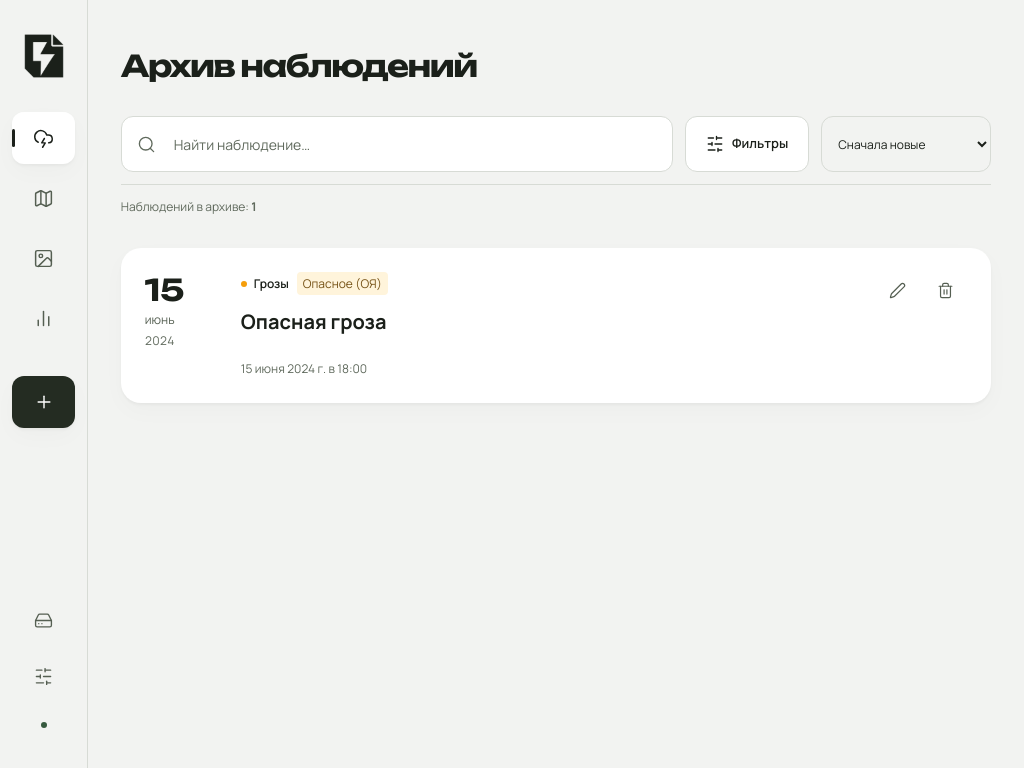
Test: tabs › renders statistics for the stored observations
Click the button named "Статистика": point(44, 318) [12,292,75,344]
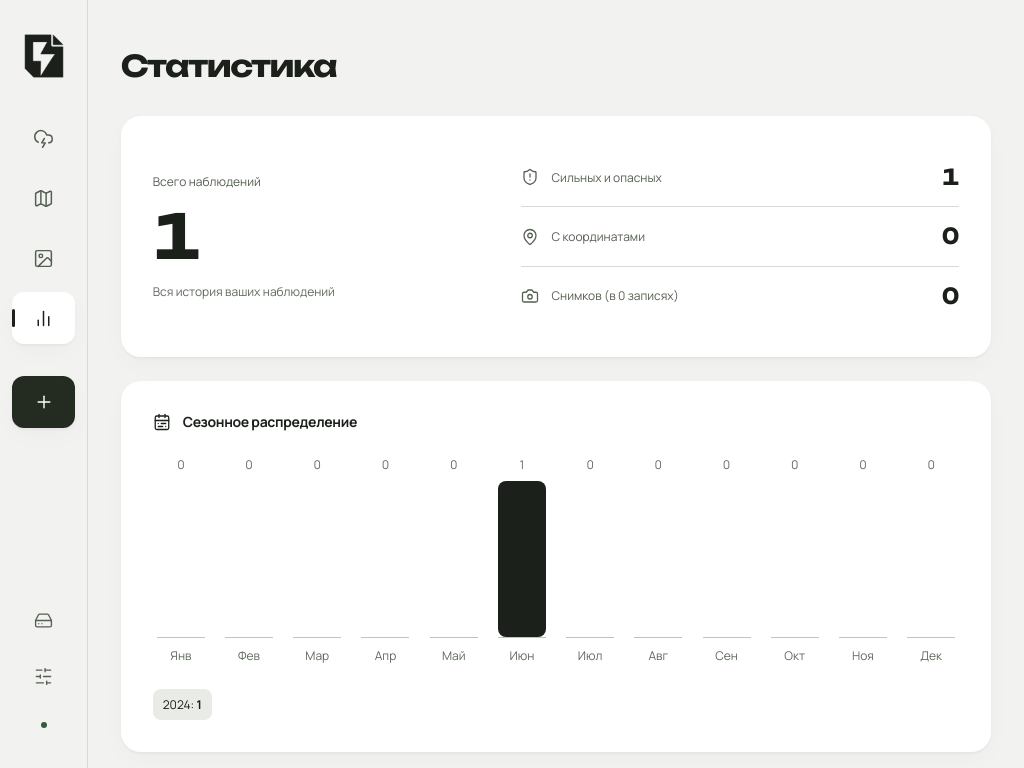
Expected: the text "Всего наблюдений" is shown, [153,172,261,191]
Expected: the heading "Сезонное распределение" is shown, [153,412,357,431]
